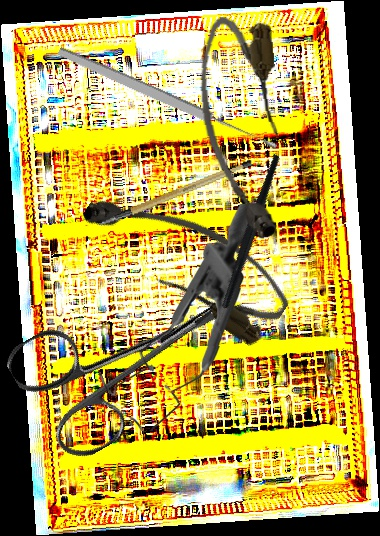Cannula: (73, 164, 300, 352), (194, 13, 290, 245)
Chopper: (162, 153, 337, 342)
Iris Scissors: (0, 238, 270, 470)
Scalpel Handle: (90, 157, 259, 227)
Speculum: (96, 203, 263, 432)
Surgical Spoon: (56, 44, 279, 154)
